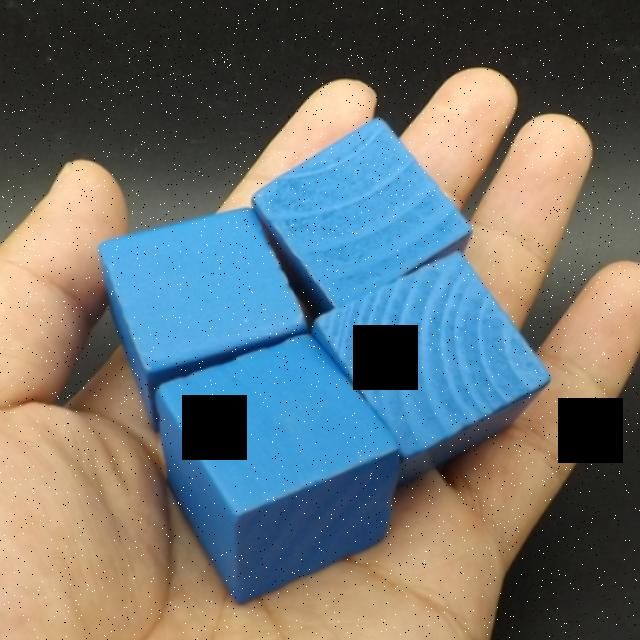bluecube: (157, 331, 399, 603), (310, 249, 553, 490), (251, 116, 473, 329), (99, 207, 309, 432)
